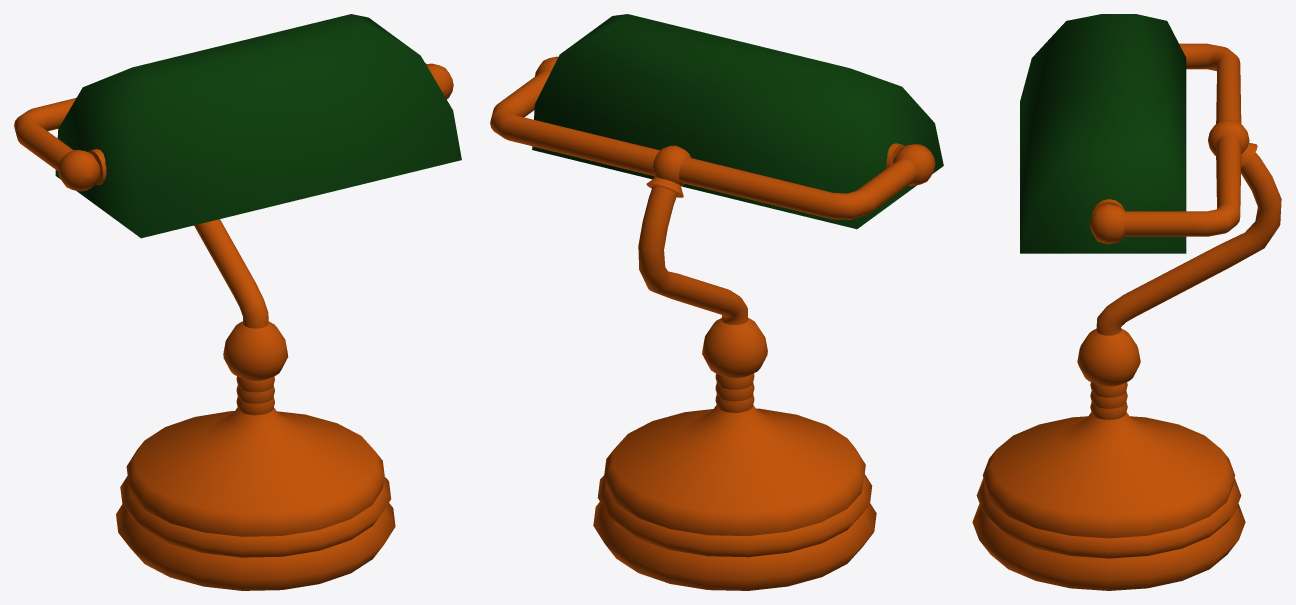
The model's file is PROP_lampDesk_01_v1.fbx.
3 renders of one model, left to right at view 1: azimuth 30°, elevation 25°; view 2: azimuth 150°, elevation 25°; view 3: azimuth 270°, elevation 25°, orthographic. The views are drawn at different scales.
Parts seen in each view (by area): view 1: pied004; view 2: pied004; view 3: pied004.
Boxes of the visible parts, left/top/right/bottom form: pied004: left=14, top=14, right=461, bottom=590; pied004: left=490, top=14, right=943, bottom=590; pied004: left=972, top=14, right=1281, bottom=590.
Size of the model in its own units: 42.65 by 50.86 by 30.17.
